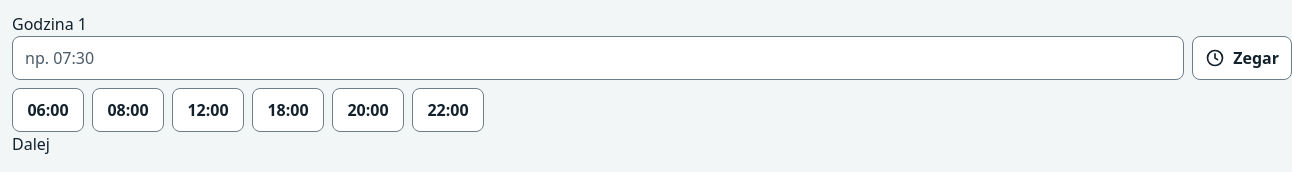
it: TimeField: quick picks › sets the time when pressed, shows it in the box and marks the pressed one
Click the button named "Ustaw 18:00" at (288, 110), box [252, 88, 324, 132]
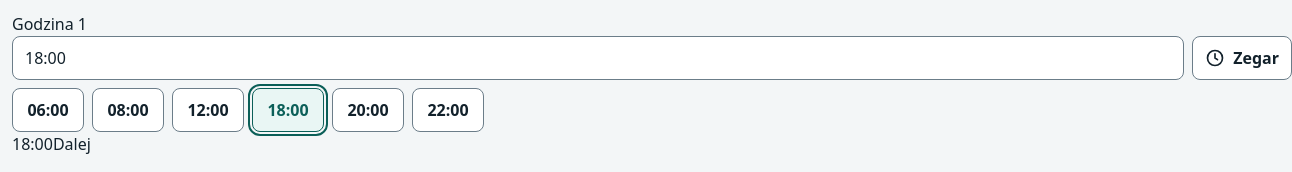
Expected: the field labelled "Godzina 1" holds "18:00", [12, 36, 1184, 80]
